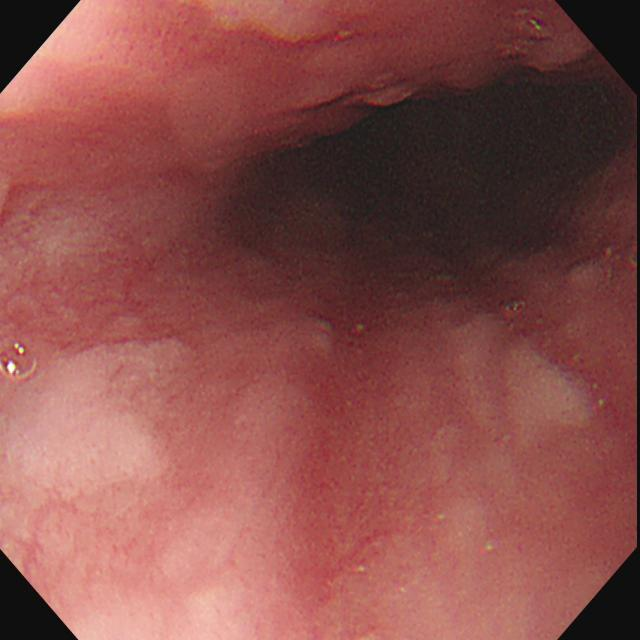A: (170, 4, 465, 144)
E: (301, 64, 570, 212)
J: (2, 327, 235, 521), (428, 294, 607, 468)
T: (501, 9, 547, 59), (2, 336, 39, 382)
